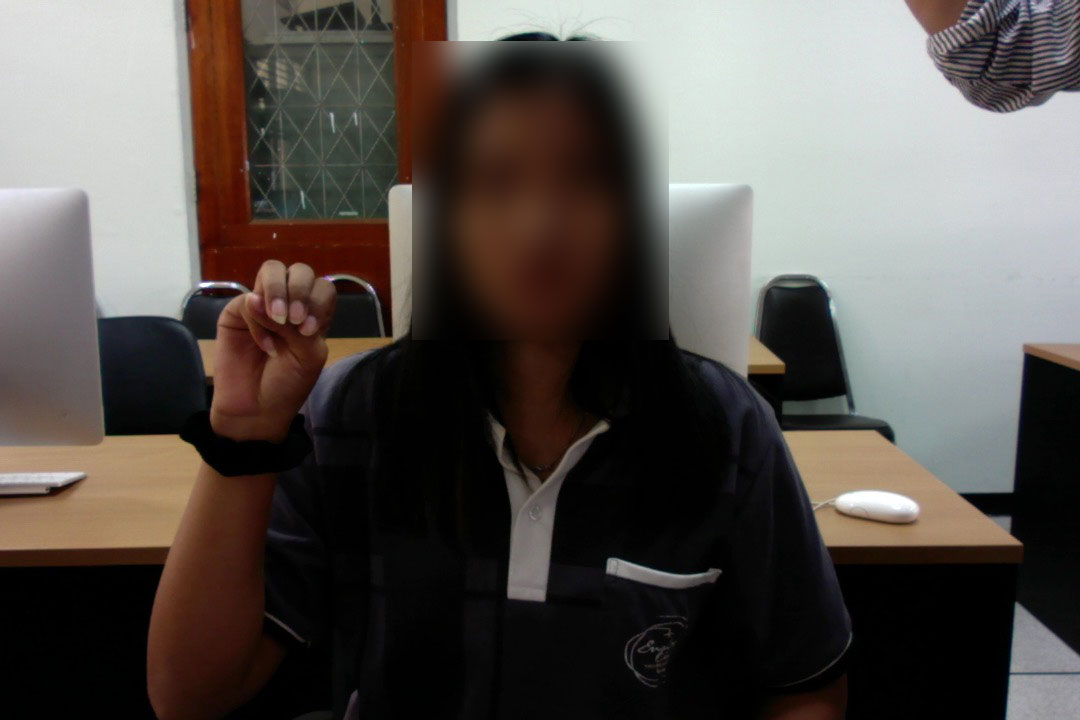mor: (206, 256, 340, 447)
